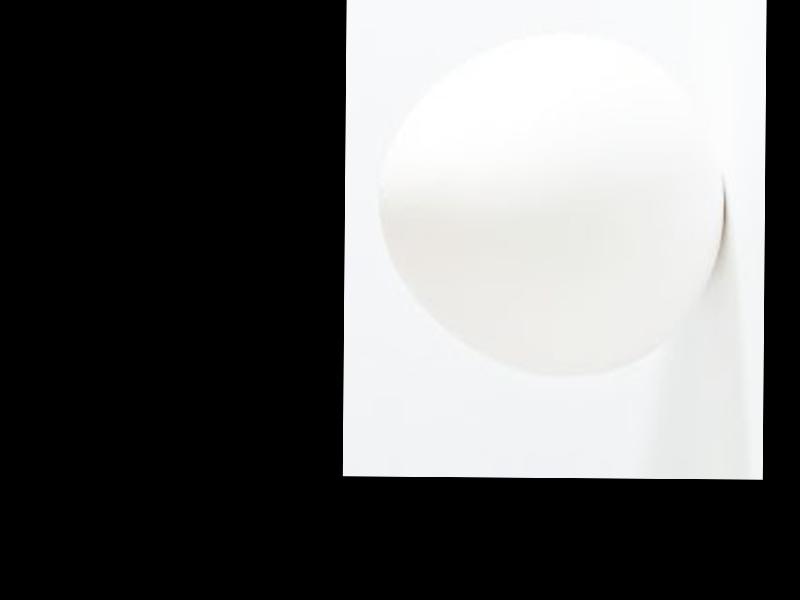Eggs: (375, 33, 725, 374)
